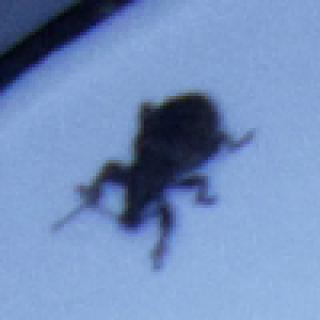bvw: (48, 89, 254, 274)
